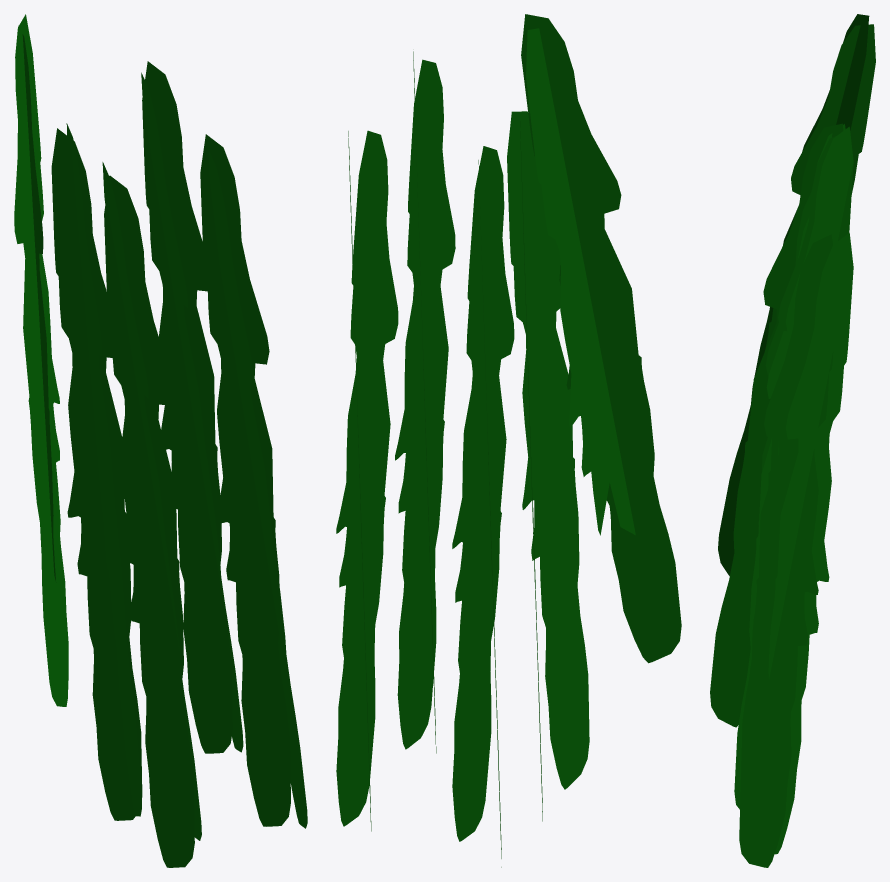
Rendered from Vegetation_Modular_New_Plant_Creeper_Ivy_03.FBX.
3 views of the same model, side by side, from view 1: azimuth 30°, elevation 25°; view 2: azimuth 150°, elevation 25°; view 3: azimuth 270°, elevation 25° (orthographic). The views are drawn at different scales.
Parts seen in each view (by area): view 1: Vegetation_Modular_New_Plant_Creeper_Ivy_03; view 2: Vegetation_Modular_New_Plant_Creeper_Ivy_03; view 3: Vegetation_Modular_New_Plant_Creeper_Ivy_03.
Boxes of the visible parts, left/top/right/bottom form: Vegetation_Modular_New_Plant_Creeper_Ivy_03: left=14, top=14, right=307, bottom=867; Vegetation_Modular_New_Plant_Creeper_Ivy_03: left=336, top=14, right=681, bottom=867; Vegetation_Modular_New_Plant_Creeper_Ivy_03: left=710, top=14, right=875, bottom=867.
Bounding box in the file's own units: 1281 × 3671 × 726.
